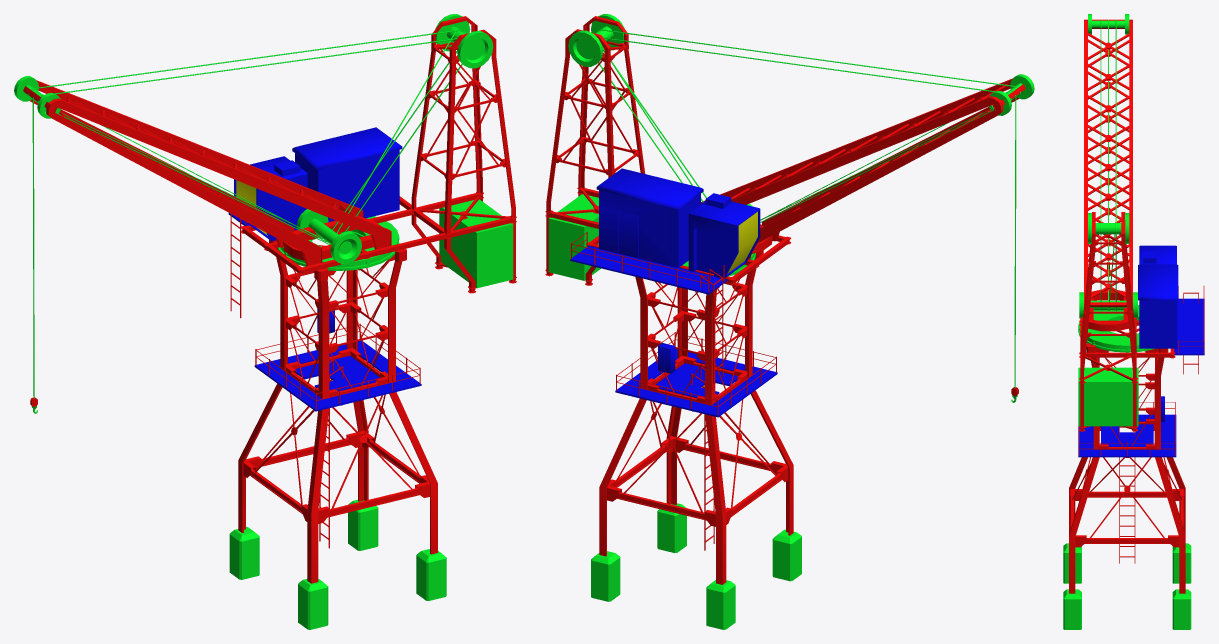
Rendered from Crane_Dock.fbx.
The picture shows the model from 3 angles, left to right: view 1: azimuth 30°, elevation 25°; view 2: azimuth 150°, elevation 25°; view 3: azimuth 270°, elevation 25°; orthographic projection. The views are drawn at different scales.
Visible parts, largest first — view 1: Box753; view 2: Box753; view 3: Box753.
Part boxes in pixels (x1,y1,x2,y2): Box753: (14, 14, 516, 629); Box753: (545, 14, 1034, 629); Box753: (1063, 14, 1204, 629).
Bounding box in the file's own units: 2904 × 3424 × 941.
